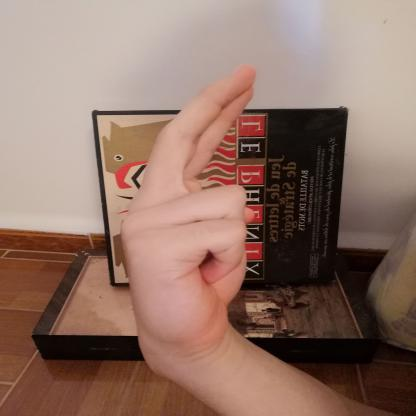ZAY: (110, 56, 270, 370)
